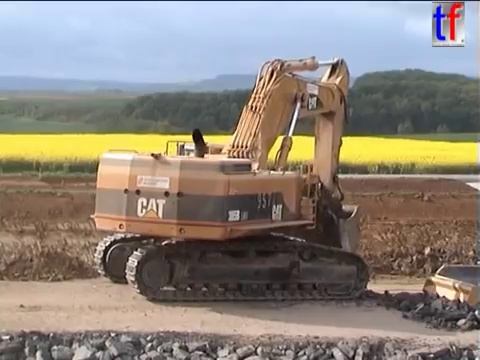excavator: (87, 52, 374, 303)
truck: (420, 261, 480, 312)
